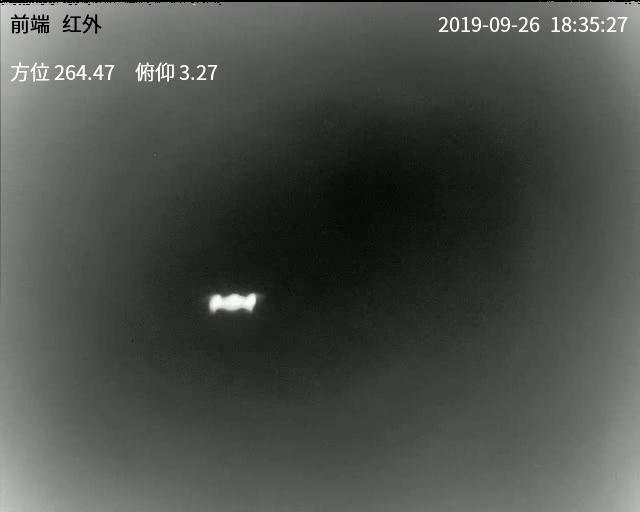DRONE: (206, 292, 259, 312)
